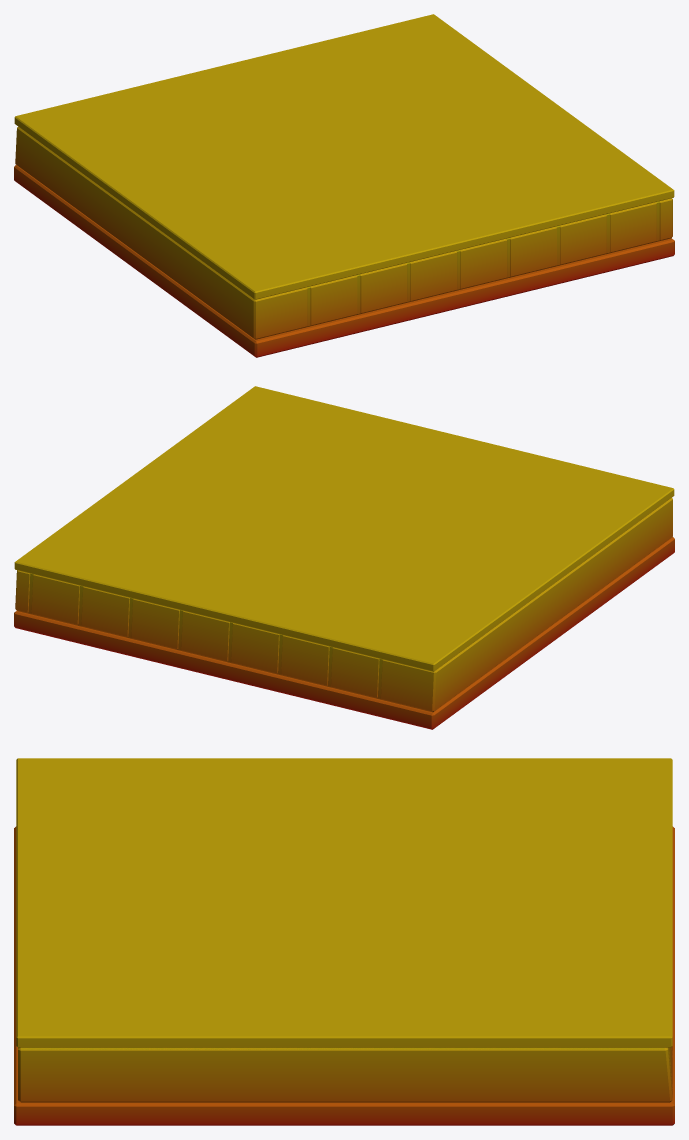
File: plinth.glb
3 views of the same model, one above another, from view 1: azimuth 30°, elevation 25°; view 2: azimuth 150°, elevation 25°; view 3: azimuth 270°, elevation 25° (orthographic). The views are drawn at different scales.
Parts seen in each view (by area): view 1: plinth; view 2: plinth; view 3: plinth.
Boxes of the visible parts, bbox=[...] form: plinth: bbox=[14, 14, 674, 357]; plinth: bbox=[14, 386, 674, 729]; plinth: bbox=[14, 758, 674, 1125].
Size of what is drawn, in the model's own units: 8 by 1.2 by 8.
